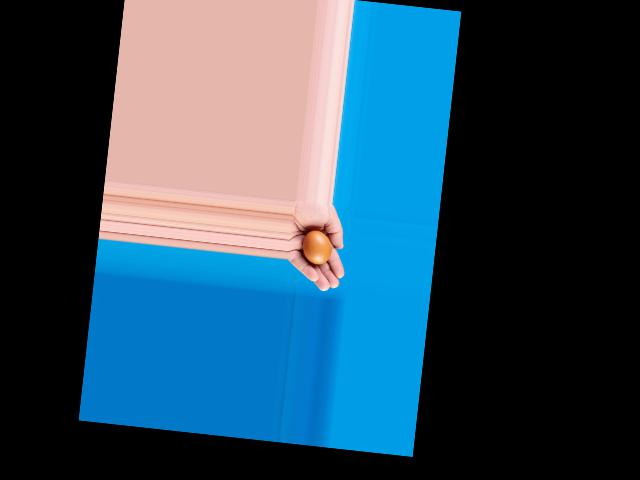egg: (301, 229, 333, 266)
